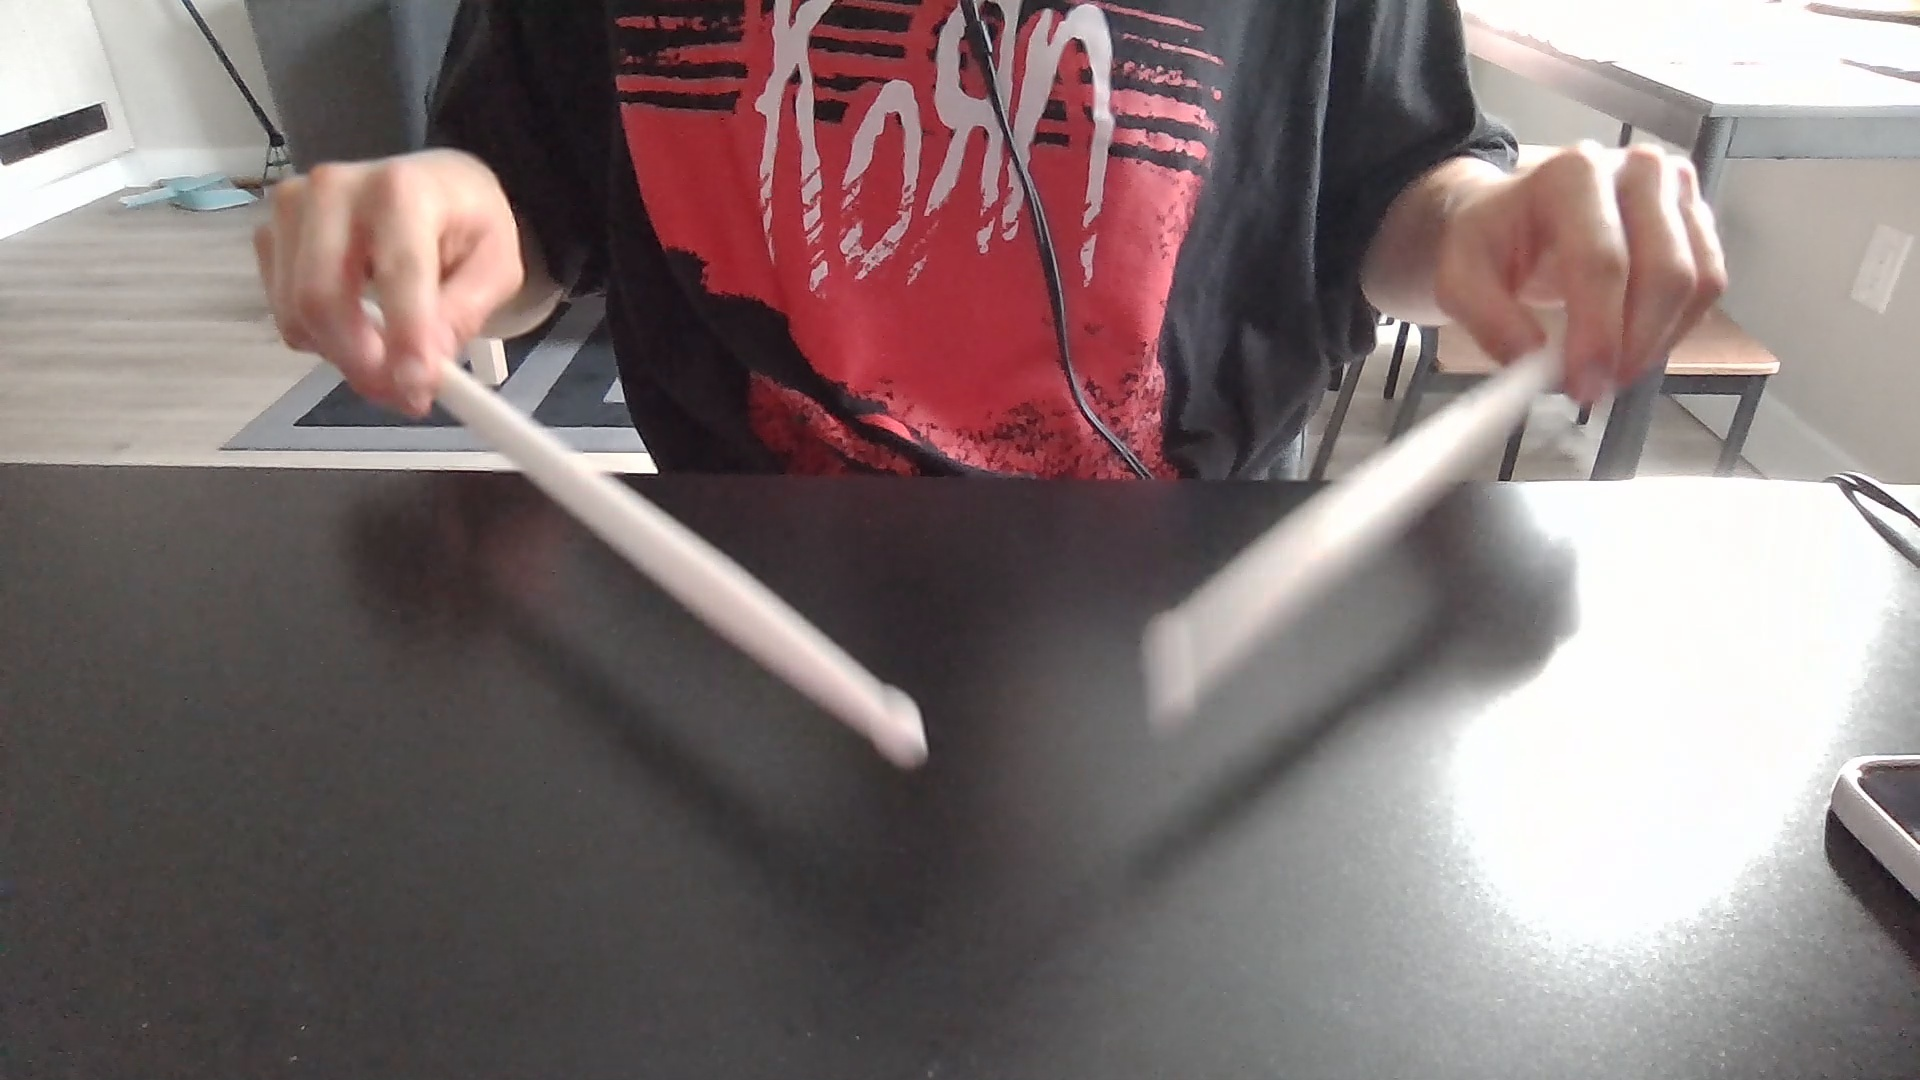left_stick: (861, 679, 943, 785)
right_stick: (1121, 592, 1230, 744)
